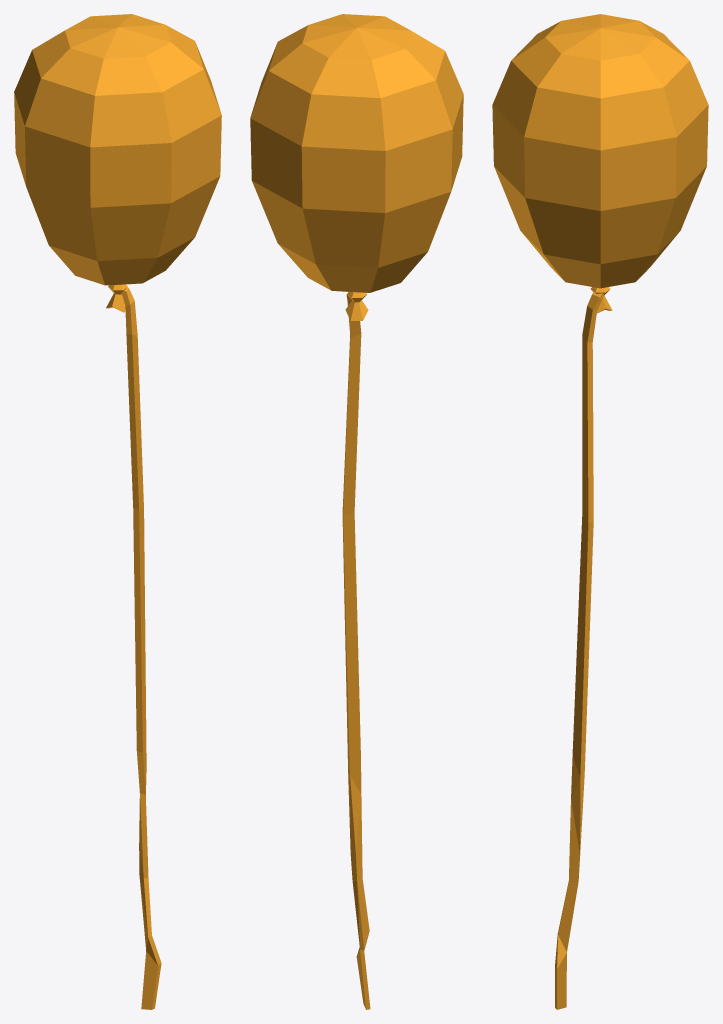
The model's file is SM_Balloon_Small_Star_Ribbon.fbx.
3 renders of one model, left to right at view 1: azimuth 30°, elevation 25°; view 2: azimuth 150°, elevation 25°; view 3: azimuth 270°, elevation 25°, orthographic. The views are drawn at different scales.
Visible parts, largest first — view 1: balloon-small-star-ribbon; view 2: balloon-small-star-ribbon; view 3: balloon-small-star-ribbon.
Boxes of the visible parts, left/top/right/bottom form: balloon-small-star-ribbon: left=14, top=14, right=221, bottom=1009; balloon-small-star-ribbon: left=250, top=14, right=463, bottom=1009; balloon-small-star-ribbon: left=492, top=14, right=708, bottom=1009.
Bounding box in the file's own units: 0.2621 × 1.3 × 0.2621.
